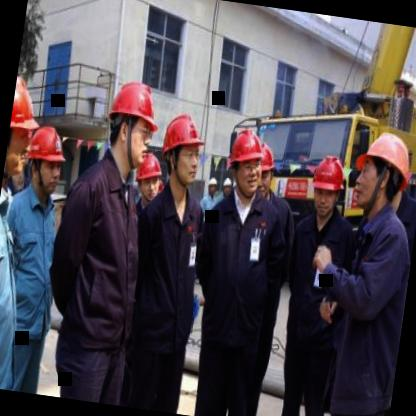helmet: (349, 123, 416, 222), (98, 74, 161, 171), (153, 106, 209, 190), (2, 69, 41, 184), (20, 121, 69, 198), (222, 125, 269, 196), (305, 154, 349, 224), (132, 150, 166, 206), (252, 140, 279, 204)
